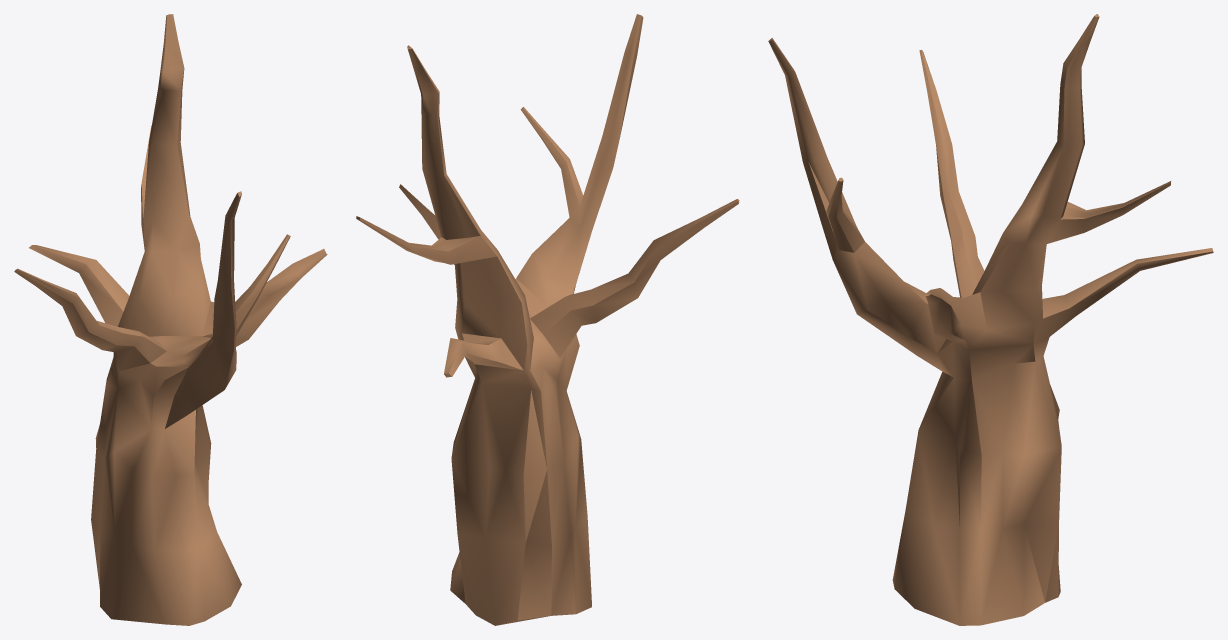
File: doak1.fbx
3 views of the same model, side by side, from view 1: azimuth 30°, elevation 25°; view 2: azimuth 150°, elevation 25°; view 3: azimuth 270°, elevation 25° (orthographic). The views are drawn at different scales.
Visible parts, largest first — view 1: Trunk; view 2: Trunk; view 3: Trunk.
Boxes of the visible parts, x1,y1,x2,y2 form: Trunk: [14, 14, 327, 625]; Trunk: [356, 14, 739, 625]; Trunk: [768, 14, 1213, 625].
Bounding box in the file's own units: 0.584 × 0.9532 × 0.6278.
